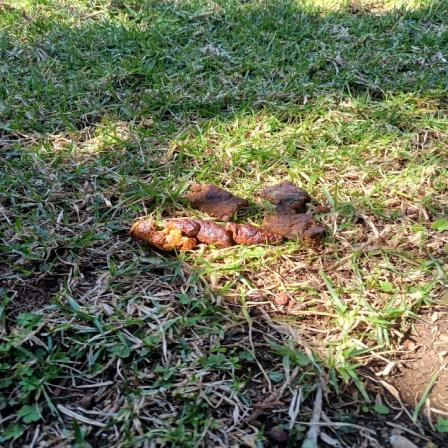dog-poop: (132, 174, 332, 254)
